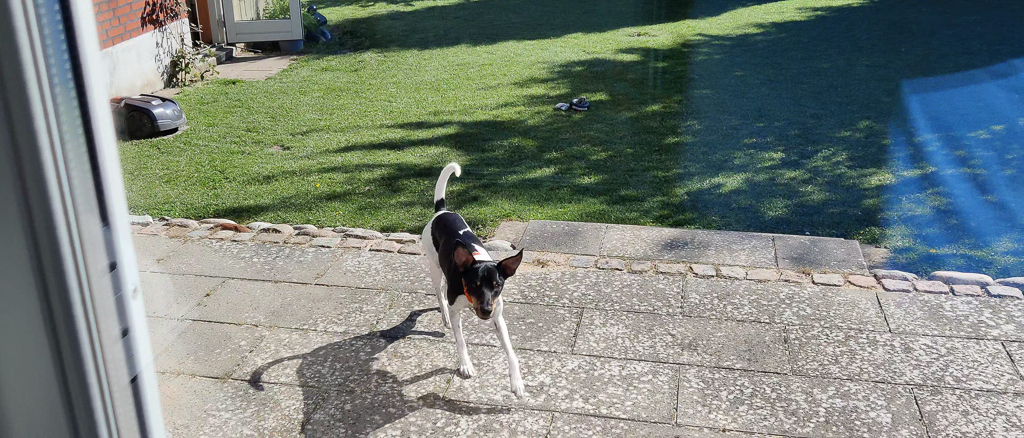Dog: (401, 149, 545, 407)
Humanoid: (298, 2, 336, 49)
